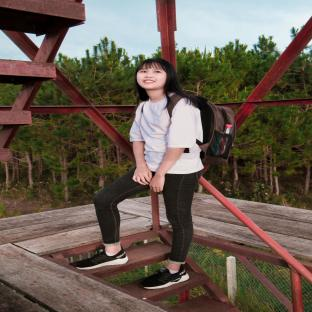Human: (77, 59, 204, 290)
